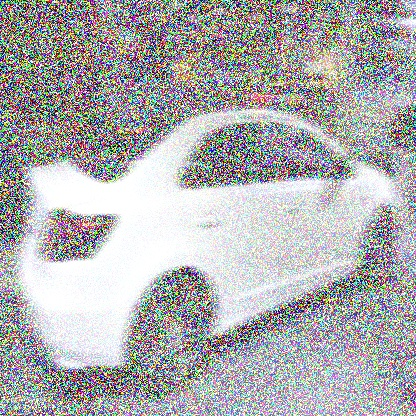Vehicle: (15, 98, 405, 382)
